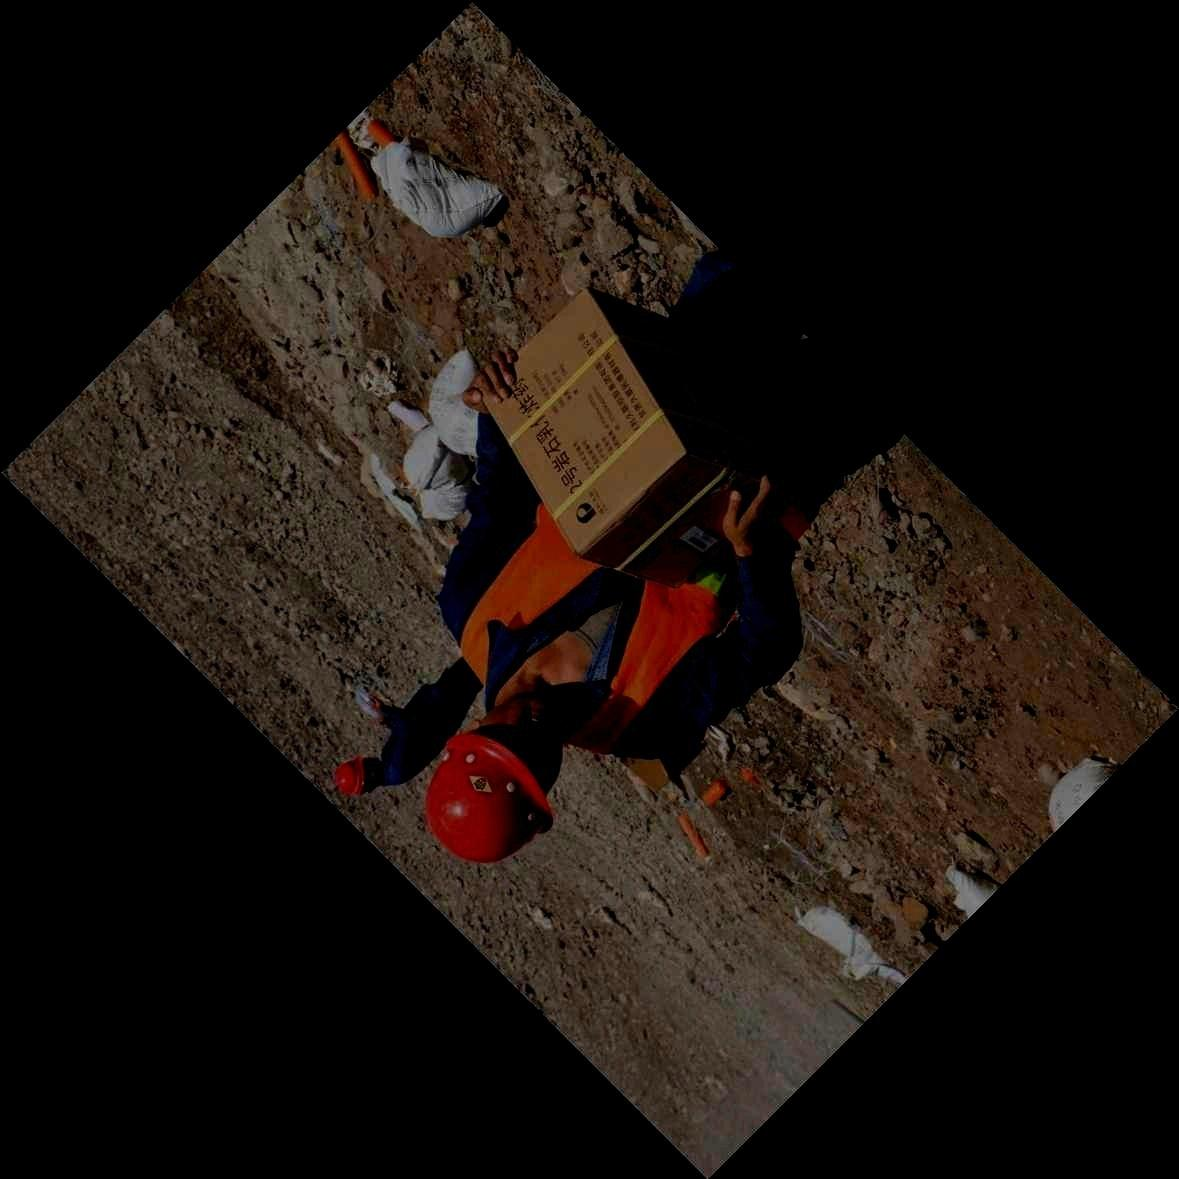helmet: (423, 695, 564, 864), (333, 755, 385, 797)
